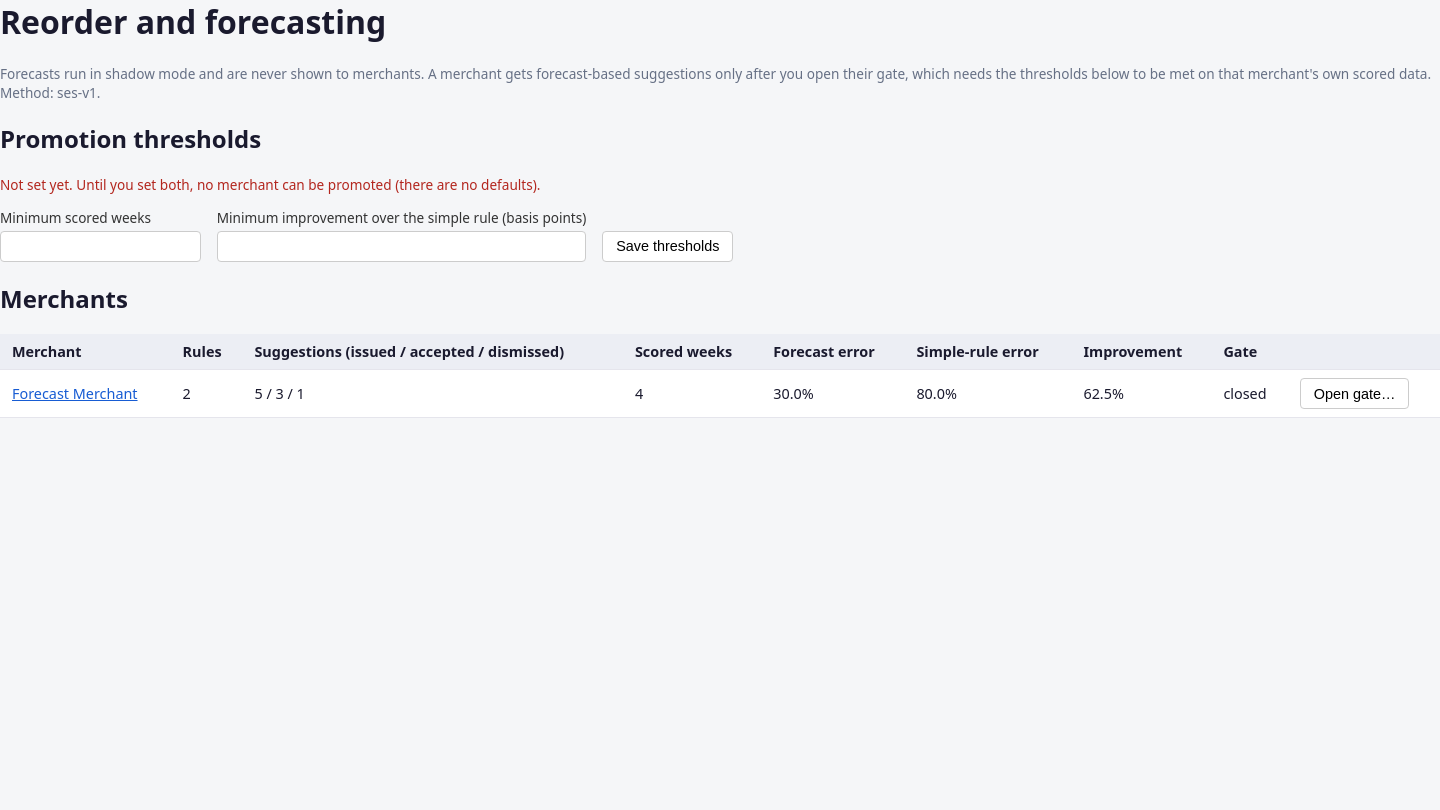
Test case: ReorderPage › shows the server's reason when a promotion is refused, and requires a reason of 10+ characters
The width and height of the screenshot is (1440, 810).
Click the button "Open gate…" at (1355, 394), box x1=1300 y1=378 x2=1409 y2=409
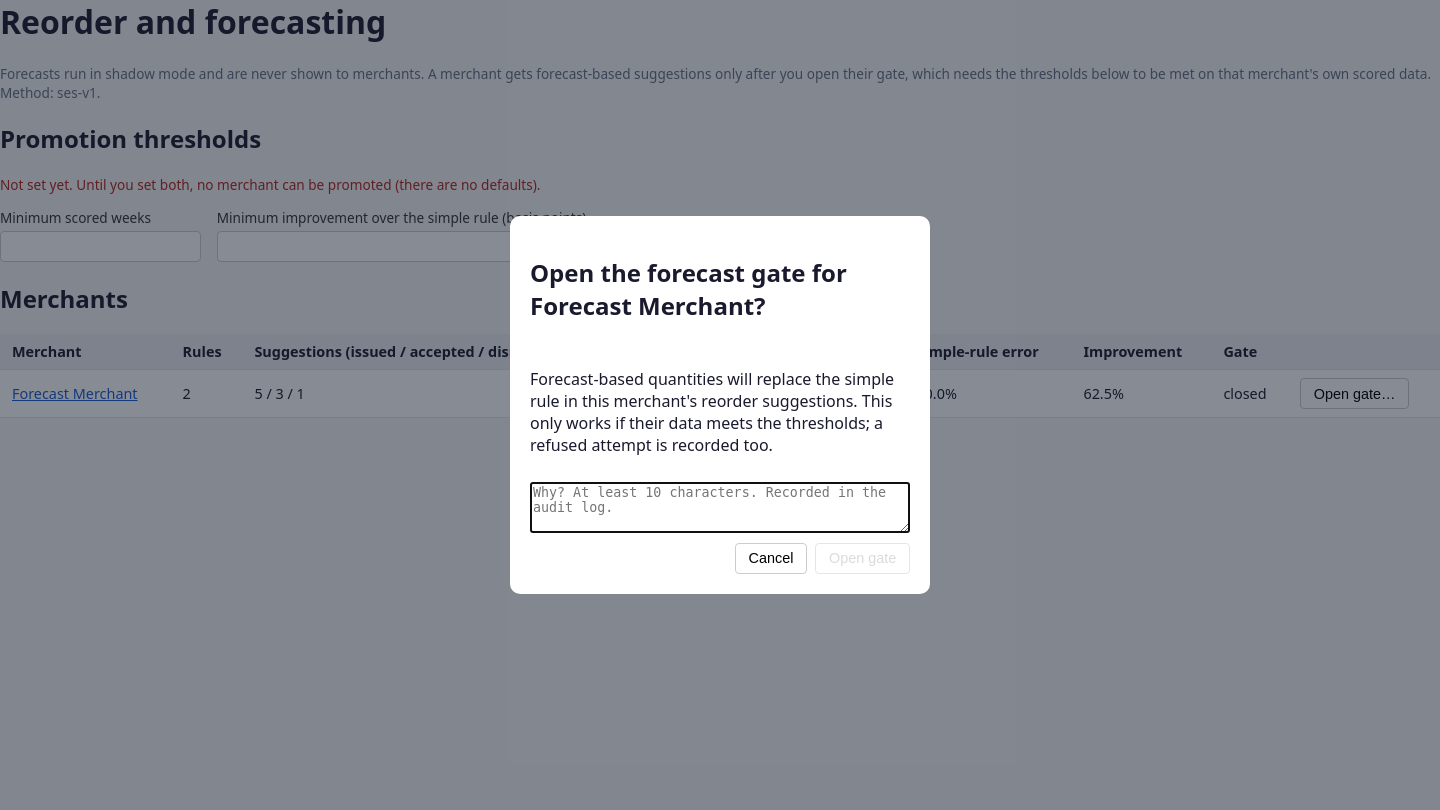
expect the button "Open gate" is disabled: met, box x1=815 y1=543 x2=910 y2=574
Type "Early look at this merchant" into the text box named "Reason" at (720, 508), box x1=530 y1=482 x2=910 y2=533
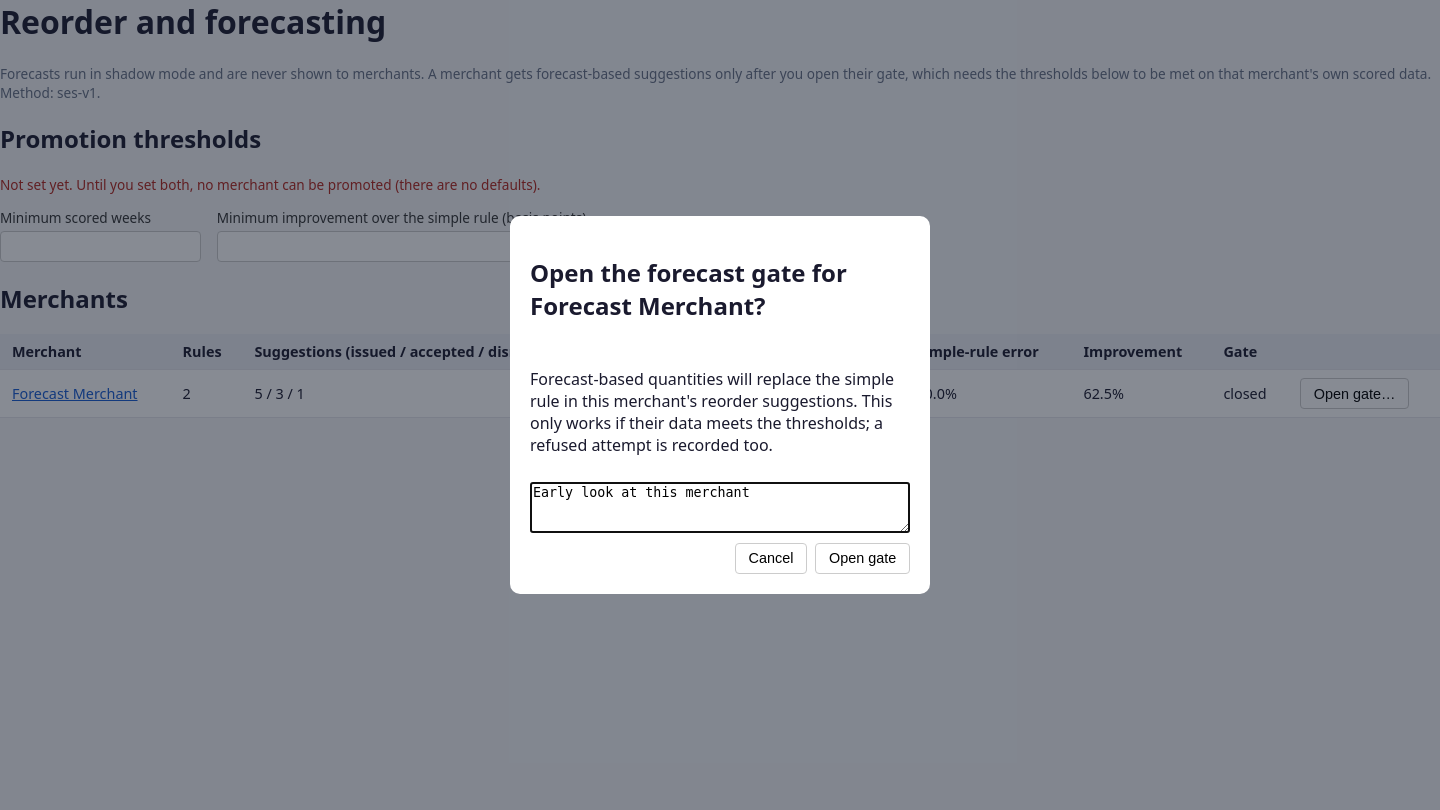
Click the button "Open gate" at (863, 558), box x1=815 y1=543 x2=910 y2=574
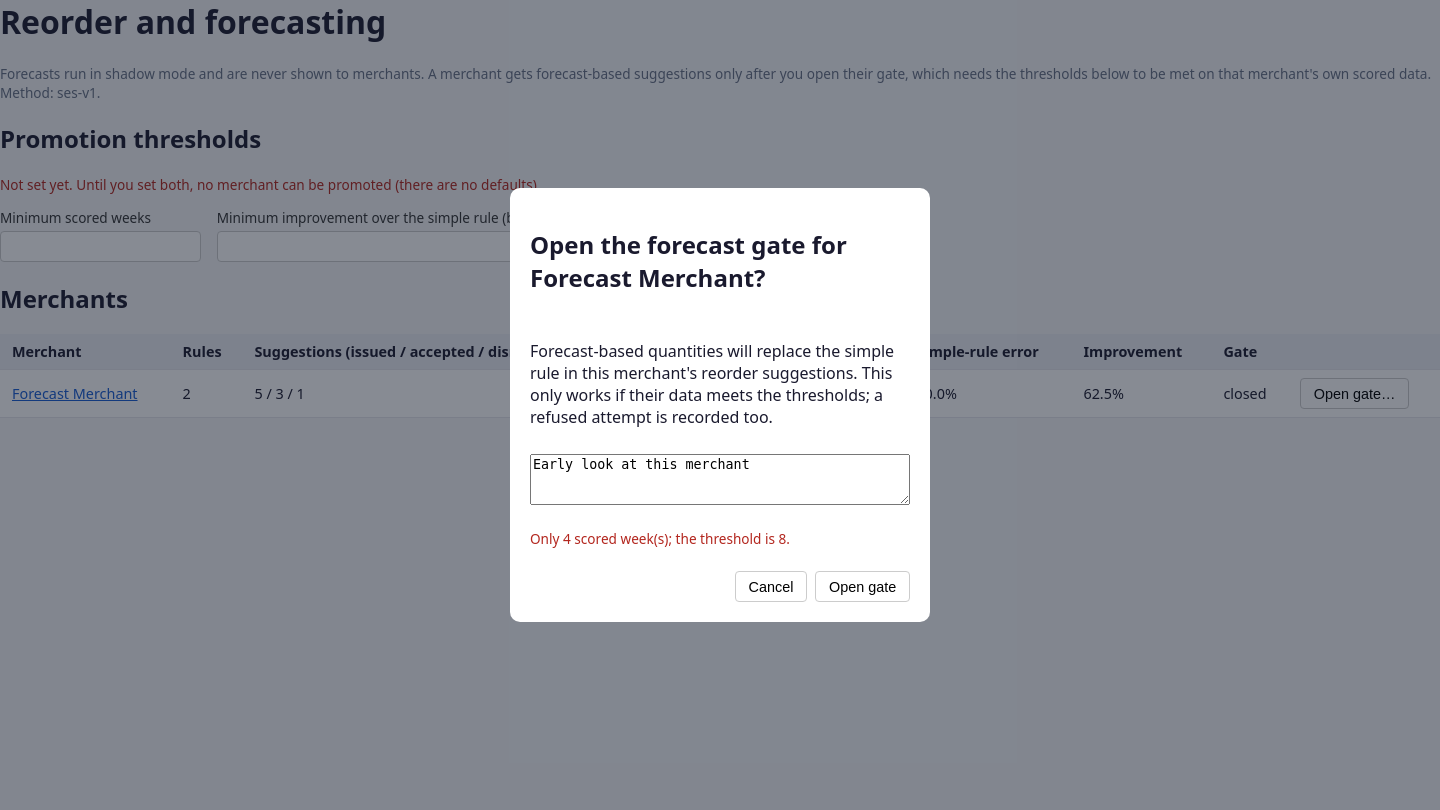
expect the dialog is shown: met
expect the message reads "Only 4 scored week(s); the threshold is 8.": met, box x1=530 y1=528 x2=790 y2=548
